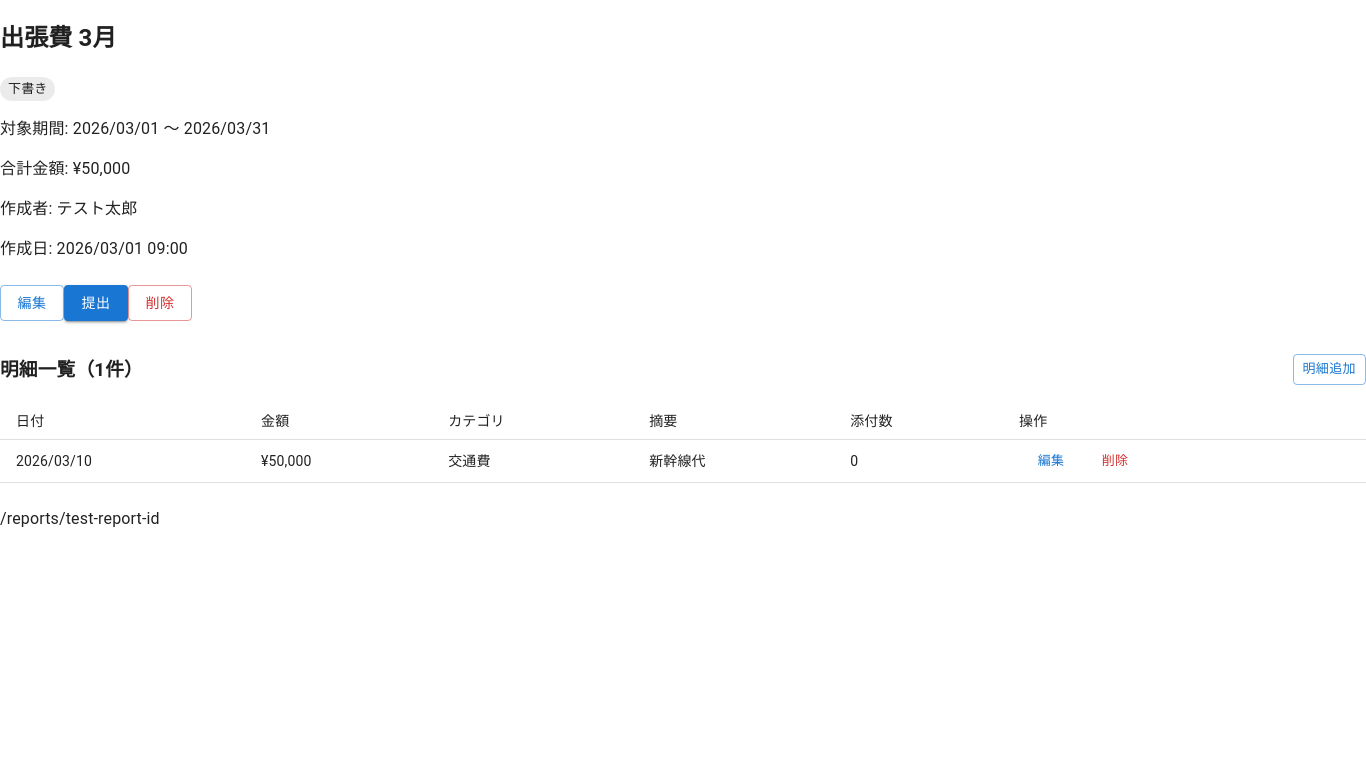
Test: ReportDetailPage › RPT-FE-090-A: 明細行クリックで ItemSlidePanel が表示され、フォームに対象明細の値がプリフィルされる
Click the row with test id "item-row-item-001" at point(683, 461), box [0, 439, 1365, 483]
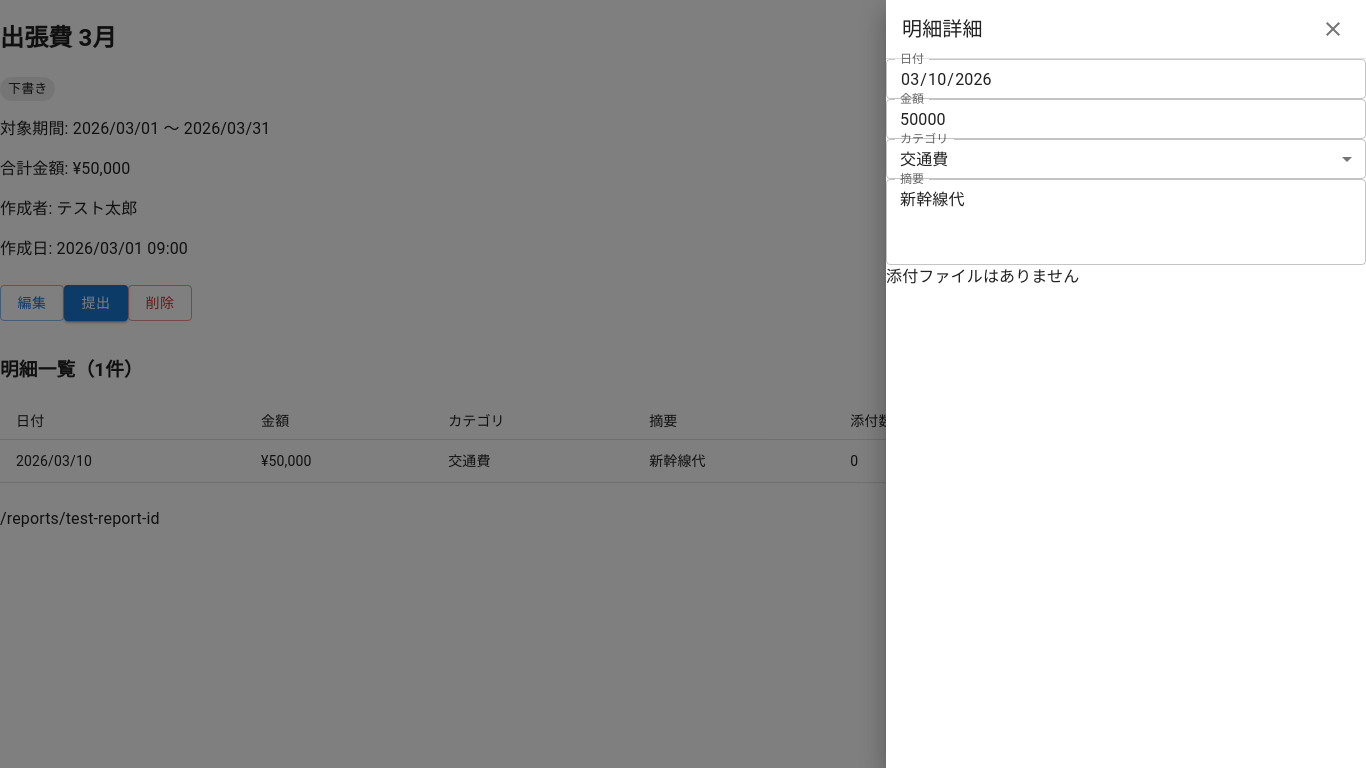
Check: the element with test id "item-slide-panel" is shown, box [886, 0, 1365, 767]
Check: the date field showing "2026-03-10" is shown, box [886, 59, 1365, 99]
Check: the number field showing "50000" is shown, box [886, 99, 1365, 139]
